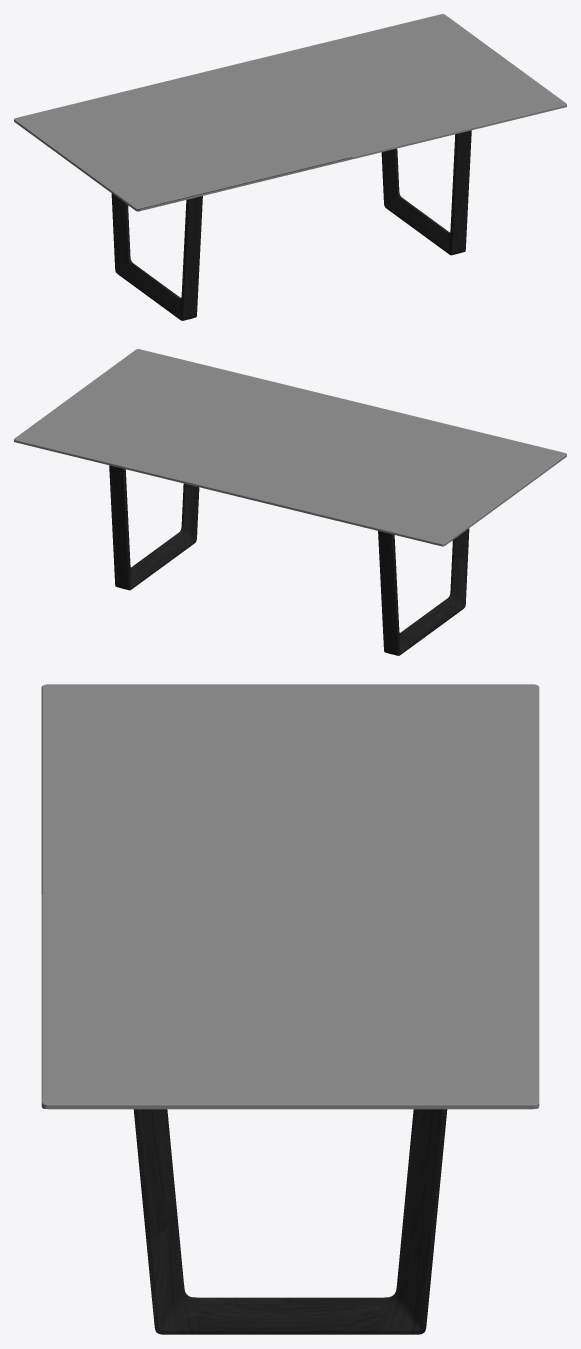
File: table.obj
3 views of the same model, one above another, from view 1: azimuth 30°, elevation 25°; view 2: azimuth 150°, elevation 25°; view 3: azimuth 270°, elevation 25° (orthographic). The views are drawn at different scales.
Visible parts, largest first — view 1: Legs_Box.002; view 2: Legs_Box.002; view 3: Legs_Box.002.
Part boxes in pixels (x1=…): Legs_Box.002: x1=14, y1=14, x2=566, y2=320; Legs_Box.002: x1=14, y1=349, x2=566, y2=655; Legs_Box.002: x1=41, y1=684, x2=539, y2=1334.
Bounding box in the file's own units: 2.2 × 0.7424 × 1.1.
